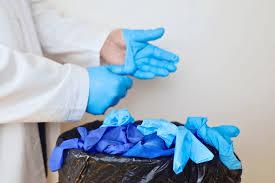Glove: (108, 28, 178, 78), (185, 117, 241, 169), (86, 66, 132, 114), (173, 126, 213, 173), (137, 119, 176, 147), (101, 109, 134, 126)
